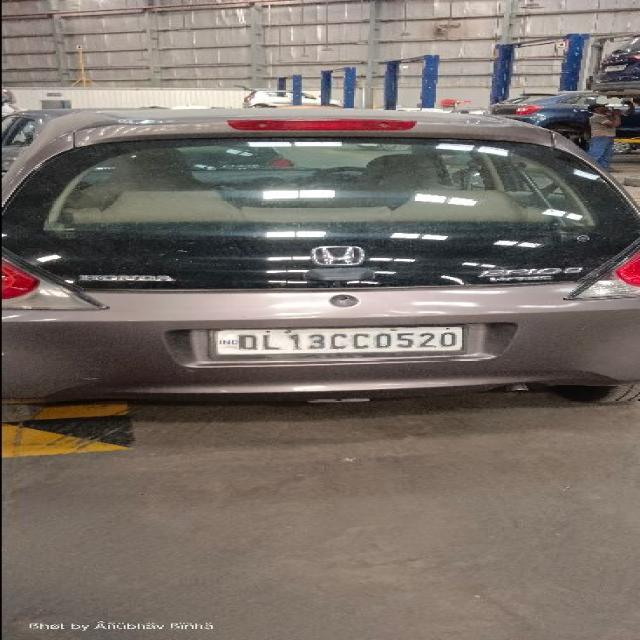license_plate: (208, 324, 468, 357)
